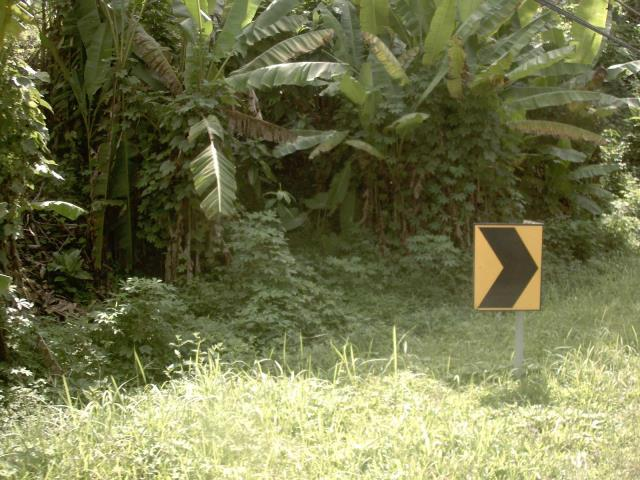traffic_sign: (462, 211, 554, 325)
